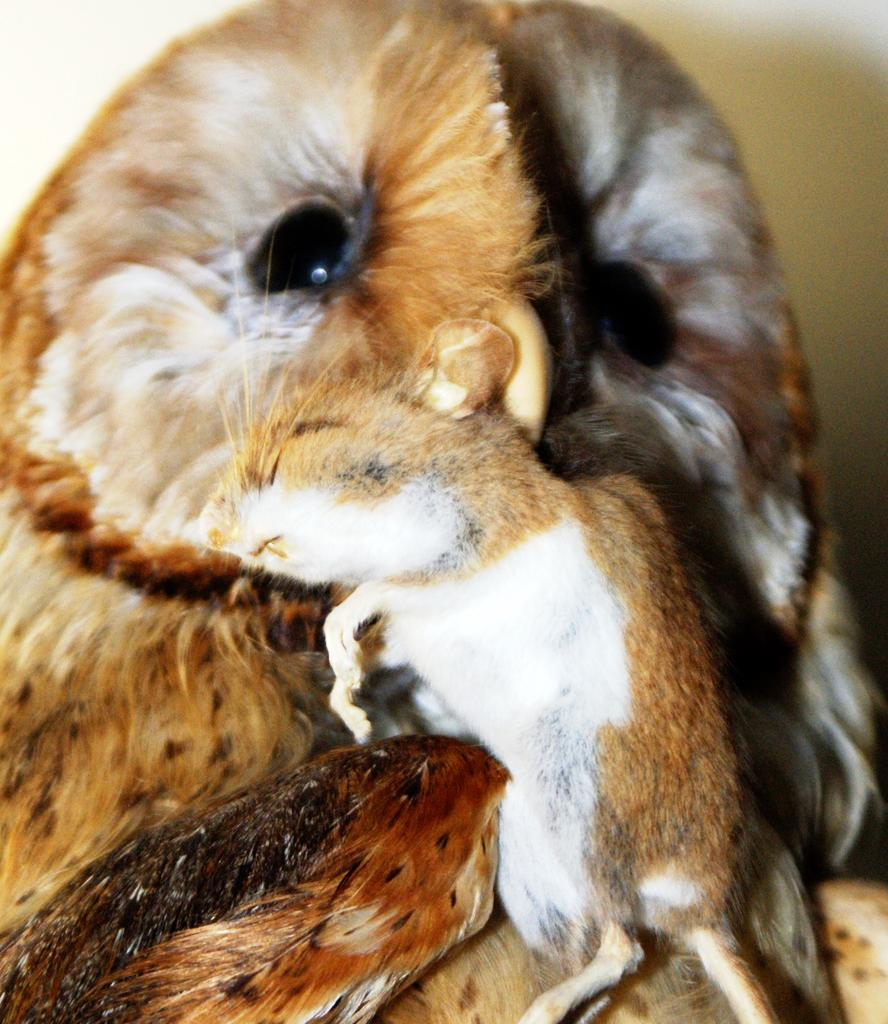Owl: (0, 0, 872, 1023)
